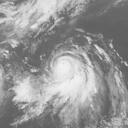cyclone: (47, 51, 83, 84)
